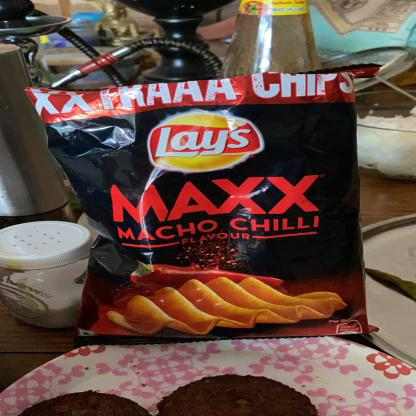max_chili: (33, 80, 388, 336)
